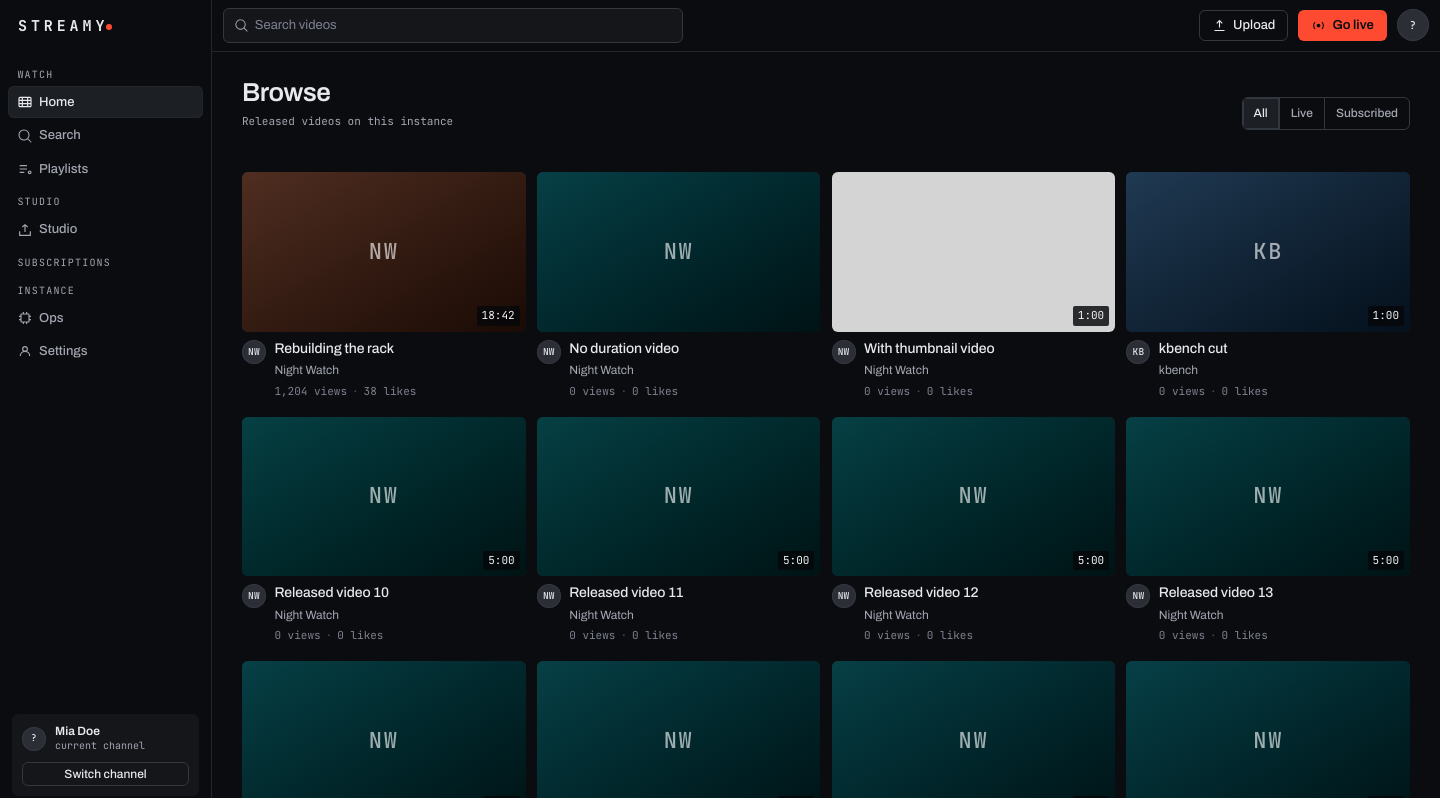
Test case: app shell › submits the topbar search to /search with the query seeding the page input
This screenshot has width=1440, height=798.
Type "rack" into the search field labelled "Search videos".
click(464, 25); type("rack")  # box [255,9,672,42]
Then press Enter
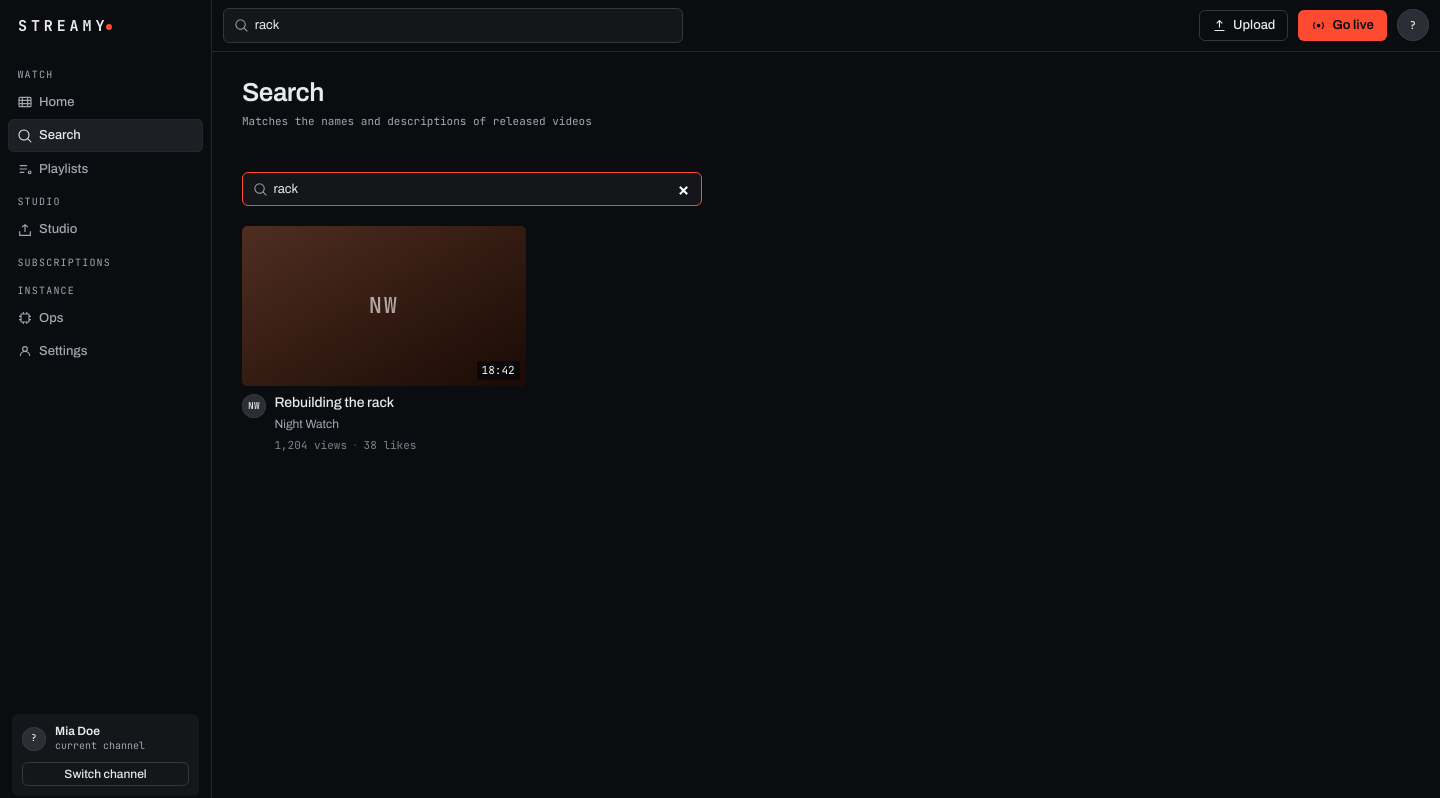
expect the heading "Search" is shown: met, box [242,78,324,106]
expect the 2nd search field named "Search videos" holds "rack": met, box [274,173,691,205]
